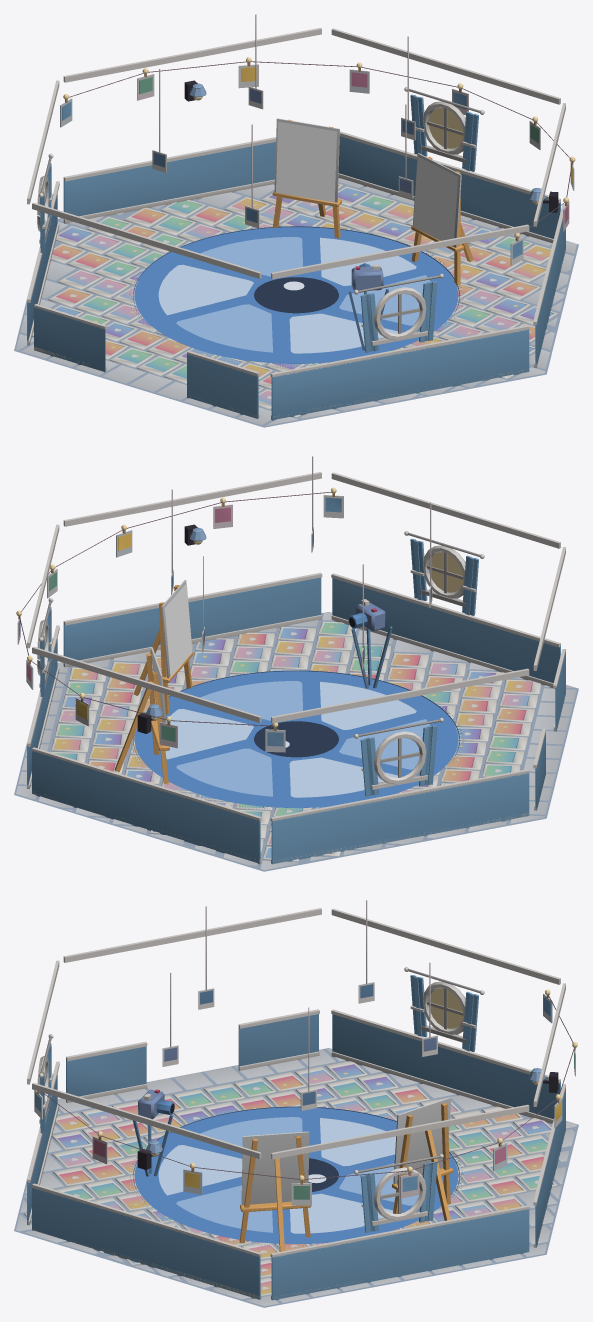
File: zon_room_photos_lite.glb
3 renders of one model, top to bottom at view 1: azimuth 30°, elevation 25°; view 2: azimuth 150°, elevation 25°; view 3: azimuth 270°, elevation 25°, orthographic.
Parts seen in each view (by area): view 1: SM_zon_room_photos_lite_room_floor_plaster_x0_zm1, SM_zon_room_photos_lite_room_rug_fabric_x0_zm1, SCREEN_fur_easel_photos_pin__0, SCREEN_fur_easel_photos_pin__1, SM_zon_room_photos_lite_room_floor_wood_x0_zm1, SM_zon_room_photos_lite_glow_vc_x0_zm1; view 2: SM_zon_room_photos_lite_room_floor_plaster_x0_zm1, SM_zon_room_photos_lite_room_rug_fabric_x0_zm1, SM_zon_room_photos_lite_room_floor_wood_x0_zm1, SCREEN_fur_easel_photos_pin__1, SM_zon_room_photos_lite_glow_vc_x0_zm1; view 3: SM_zon_room_photos_lite_room_floor_plaster_x0_zm1, SM_zon_room_photos_lite_room_rug_fabric_x0_zm1, SM_zon_room_photos_lite_room_floor_wood_x0_zm1, SM_zon_room_photos_lite_glow_vc_x0_zm1.
Part boxes in pixels (box(x1,y1,x2,y2)): SM_zon_room_photos_lite_room_floor_plaster_x0_zm1: box(14, 14, 578, 427); SM_zon_room_photos_lite_room_rug_fabric_x0_zm1: box(129, 226, 463, 367); SCREEN_fur_easel_photos_pin__0: box(276, 121, 336, 202); SCREEN_fur_easel_photos_pin__1: box(413, 156, 458, 246); SM_zon_room_photos_lite_room_floor_wood_x0_zm1: box(272, 119, 473, 285); SM_zon_room_photos_lite_glow_vc_x0_zm1: box(44, 57, 575, 238); SM_zon_room_photos_lite_room_floor_plaster_x0_zm1: box(14, 456, 578, 871); SM_zon_room_photos_lite_room_rug_fabric_x0_zm1: box(130, 670, 463, 811); SM_zon_room_photos_lite_room_floor_wood_x0_zm1: box(114, 585, 193, 784); SCREEN_fur_easel_photos_pin__1: box(164, 583, 192, 677); SM_zon_room_photos_lite_glow_vc_x0_zm1: box(16, 487, 463, 727); SM_zon_room_photos_lite_room_floor_plaster_x0_zm1: box(14, 900, 578, 1307); SM_zon_room_photos_lite_room_rug_fabric_x0_zm1: box(128, 1106, 463, 1247); SM_zon_room_photos_lite_room_floor_wood_x0_zm1: box(239, 1102, 453, 1251); SM_zon_room_photos_lite_glow_vc_x0_zm1: box(44, 988, 577, 1181).
Size of the model in its own units: 12.13 by 5.03 by 11.15.
